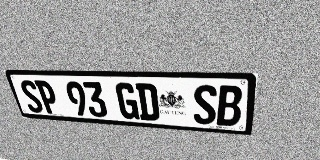3: (82, 82, 108, 118)
9: (64, 81, 90, 116)
B: (217, 85, 243, 127)
D: (135, 83, 160, 121)
G: (115, 82, 140, 120)
P: (34, 80, 61, 114)
S: (193, 85, 217, 125), (18, 80, 45, 113)
